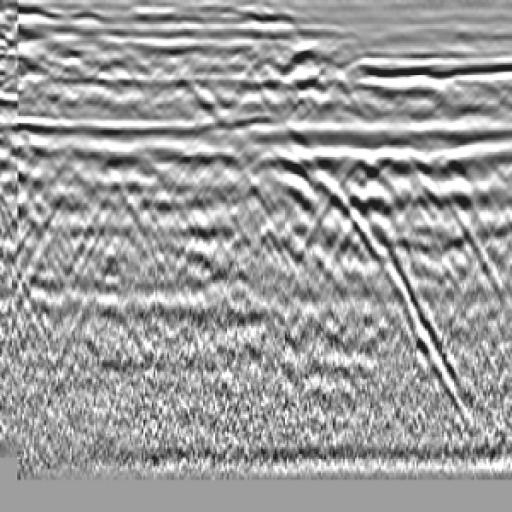non-metallic: (141, 105, 459, 406)
